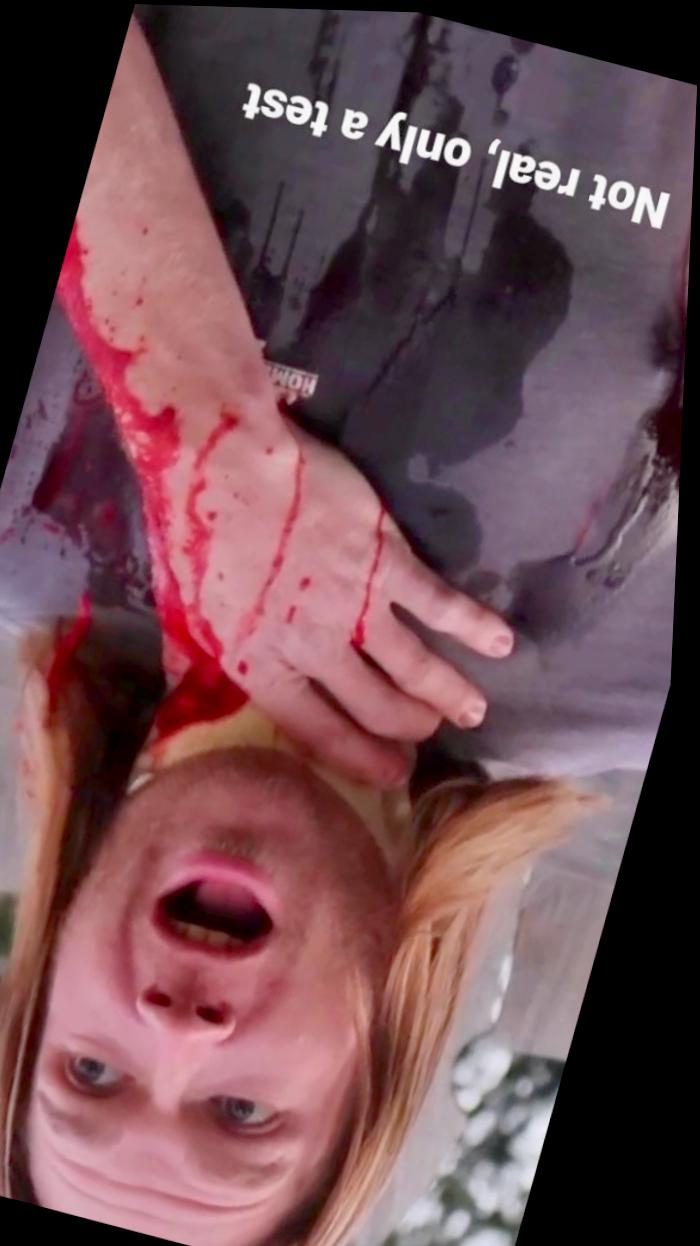Fire: (0, 201, 311, 738), (44, 597, 96, 726), (357, 487, 396, 646), (29, 674, 38, 708)
